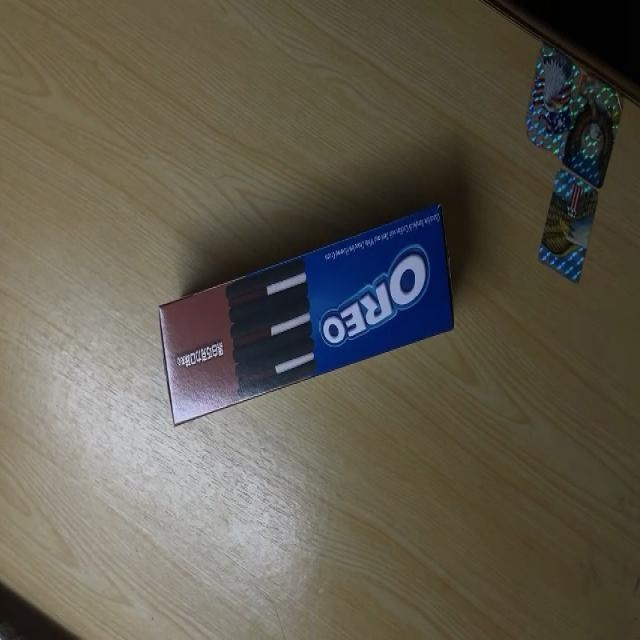Oreo: (157, 204, 454, 428)
